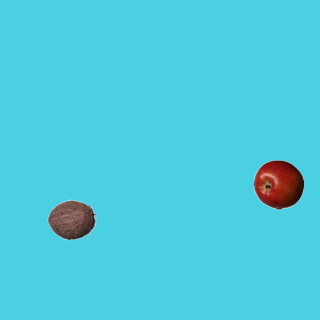Apple Braeburn: (253, 159, 303, 209)
Cocos: (46, 194, 96, 244)
